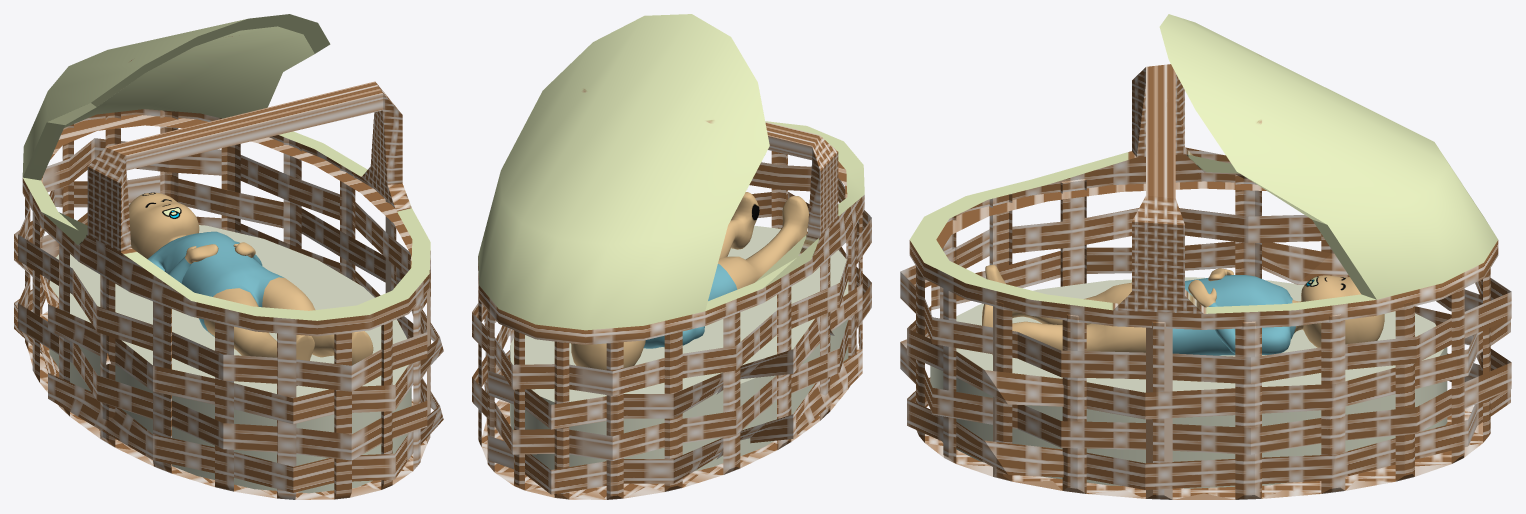
The model's file is baby_babycarrier.fbx.
The picture shows the model from 3 angles, left to right: view 1: azimuth 30°, elevation 25°; view 2: azimuth 150°, elevation 25°; view 3: azimuth 270°, elevation 25°; orthographic projection. The views are drawn at different scales.
Parts seen in each view (by area): view 1: baby_carrier; view 2: baby_carrier; view 3: baby_carrier.
Part boxes in pixels (x1,y1,x2,y2): baby_carrier: [14, 14, 443, 499]; baby_carrier: [472, 14, 871, 499]; baby_carrier: [900, 14, 1511, 499].
Bounding box in the file's own units: 35.59 × 43.47 × 60.06.
Materials: 4 (2 with a texture image).
